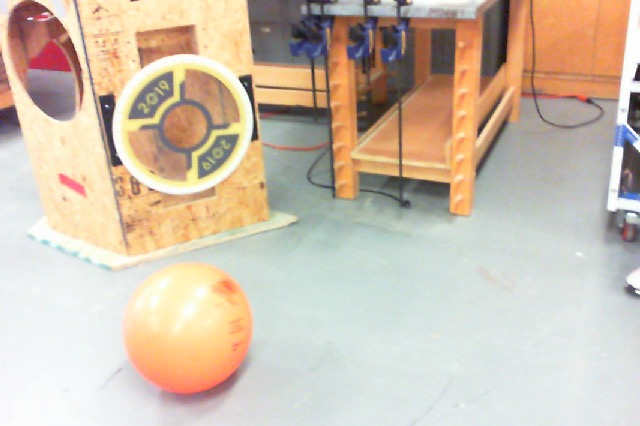Ball: (125, 260, 251, 393)
Hatch: (112, 53, 252, 195)
